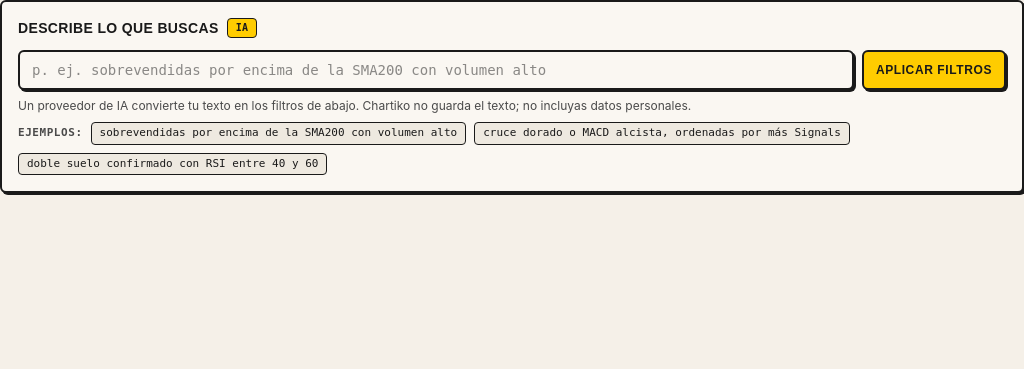
it: ScreenerAiQuery › applies the filters, shows the explanation and undoes to the previous URL
Replace the text in the field named "Búsqueda en tus palabras" with "  sobrevendidas por encima de la SMA200 con volumen alto ": (436, 70) [18,50,854,90]
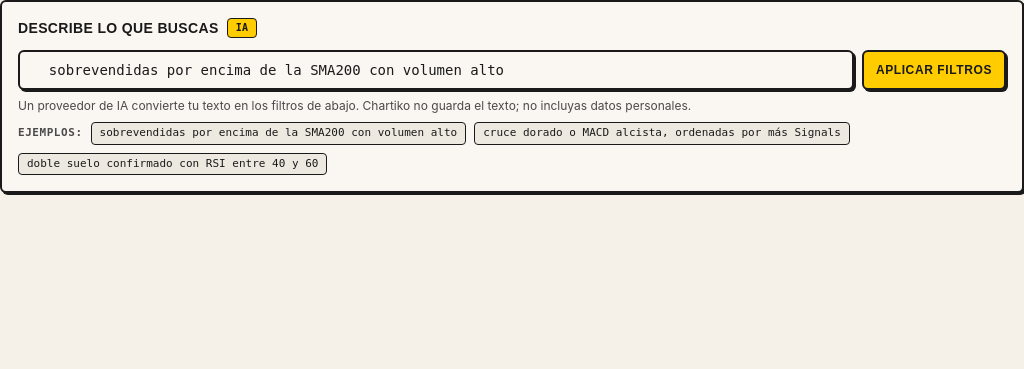
Click the button "Aplicar filtros": click(934, 70) [862,50,1006,90]
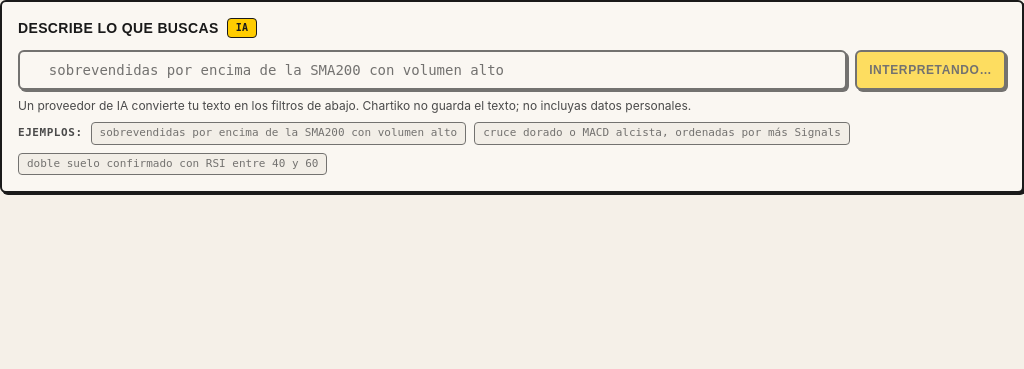
Now the button "Interpretando…" is disabled, box [855,50,1006,90]
Now the field named "Búsqueda en tus palabras" is disabled, box [18,50,847,90]
Submit the form "Interpretando…", box [18,50,1006,175]
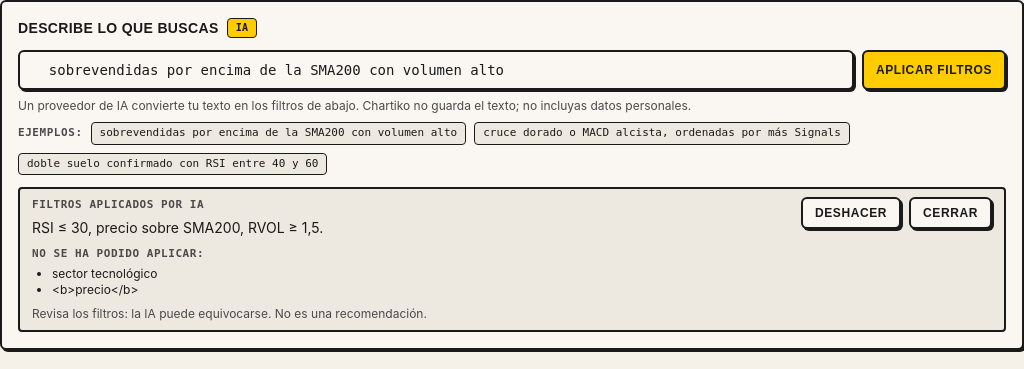
Now the text "RSI ≤ 30, precio sobre SMA200, RVOL ≥ 1,5." is shown, box [32,218,323,238]
Now the text "No se ha podido aplicar:" is shown, box [32,247,204,260]
Now the list item "sector tecnológico" is shown, box [52,266,158,281]
Click the button "Deshacer": click(851, 213) [801,197,901,229]
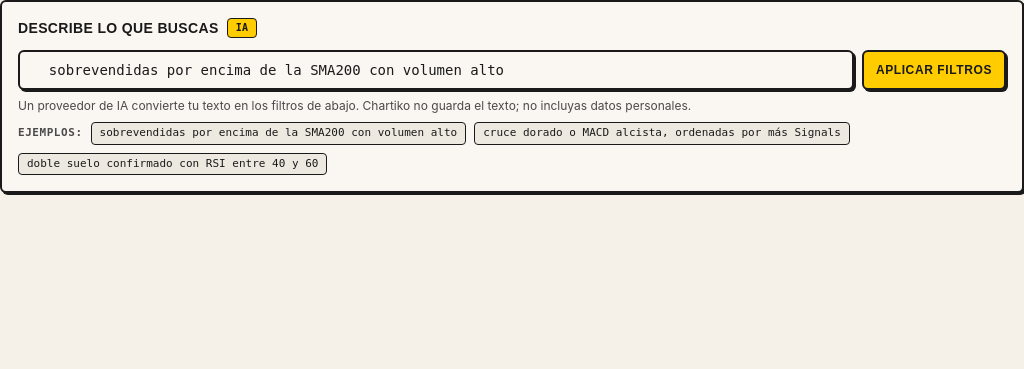
Now the message is gone
